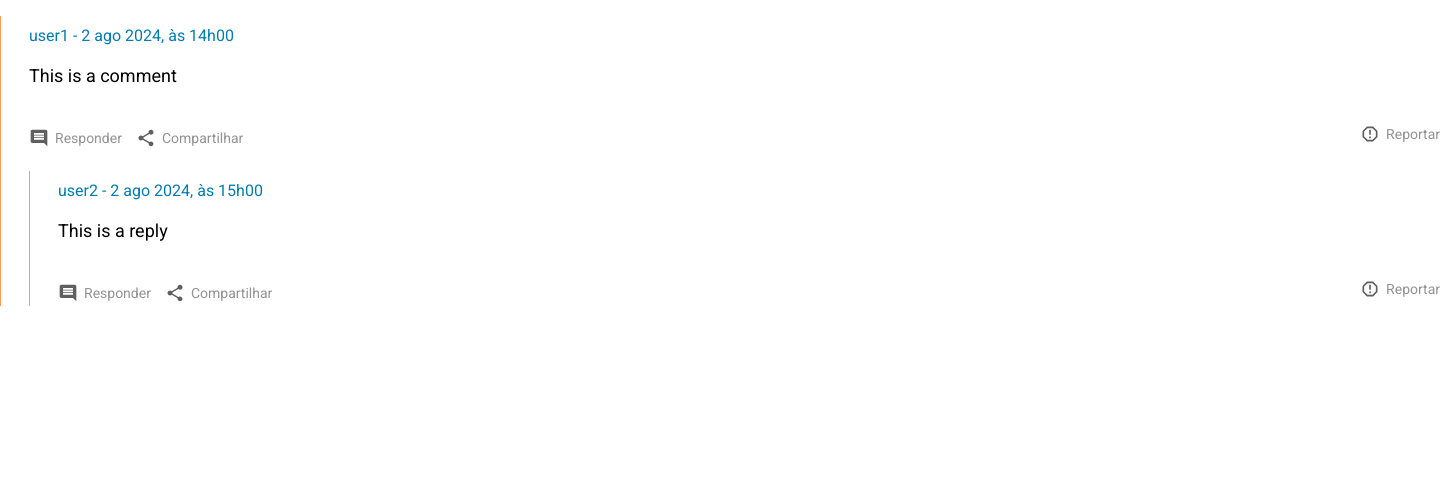
Comment Component › show reply on reply button click
Click the 1st button with test id "comment-reply-button": (75, 138) [29,124,122,151]
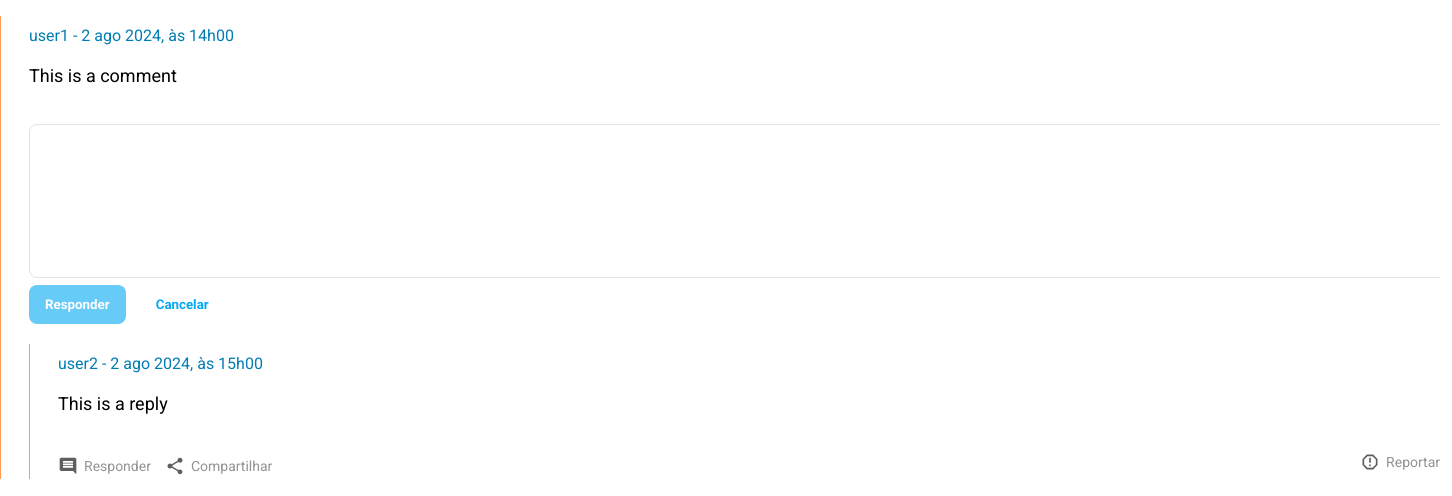
Expected: the 1st button "Responder" is disabled, [29,285,126,324]
Result: the element with test id "comment-reply" is shown at [29,124,1440,324]
